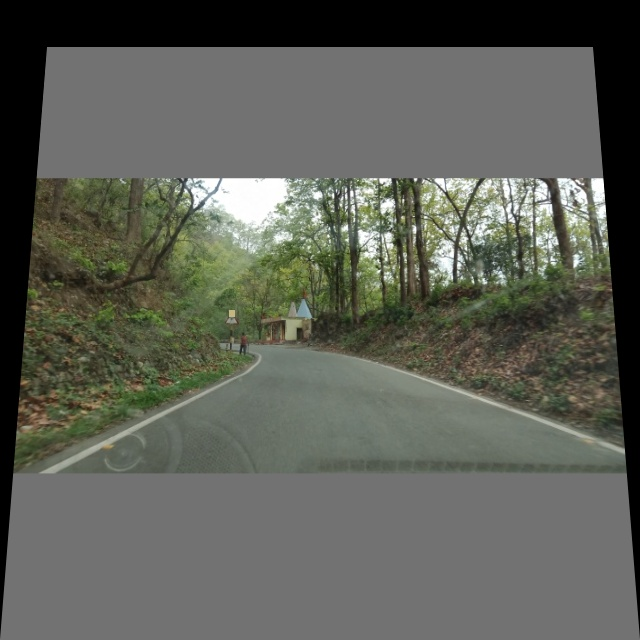Narrow_Bridge: (224, 306, 241, 326)
